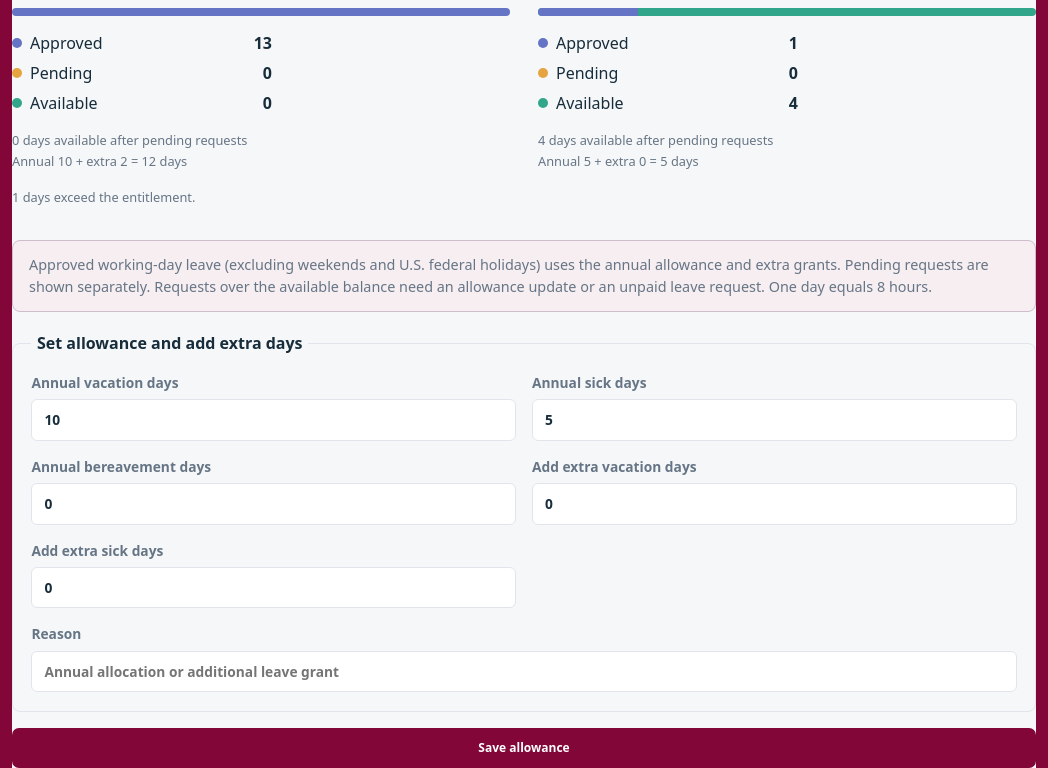
it: saves extra grants and resets the grant fields to prevent accidental resubmission
(page scrolled)
Replace the text in the number field labelled "Add extra vacation days" with "3" at (774, 504), box x1=532 y1=483 x2=1017 y2=524
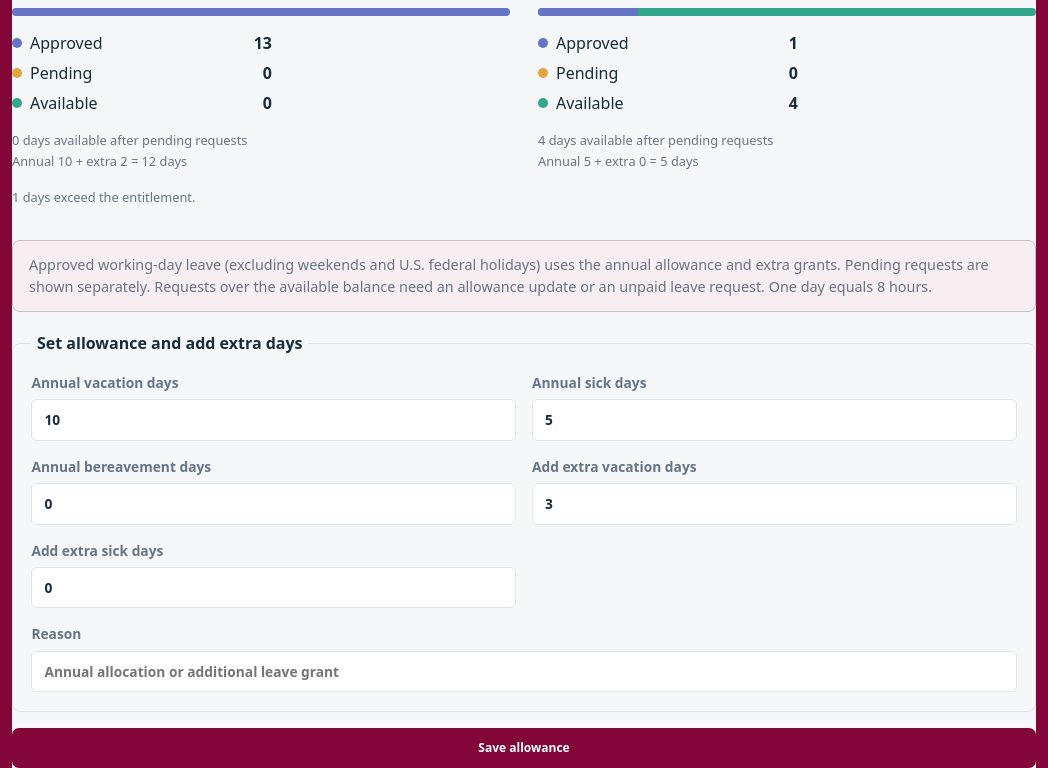
Type "Additional leave approved" into the field labelled "Reason" at (524, 672), box x1=31 y1=651 x2=1017 y2=692
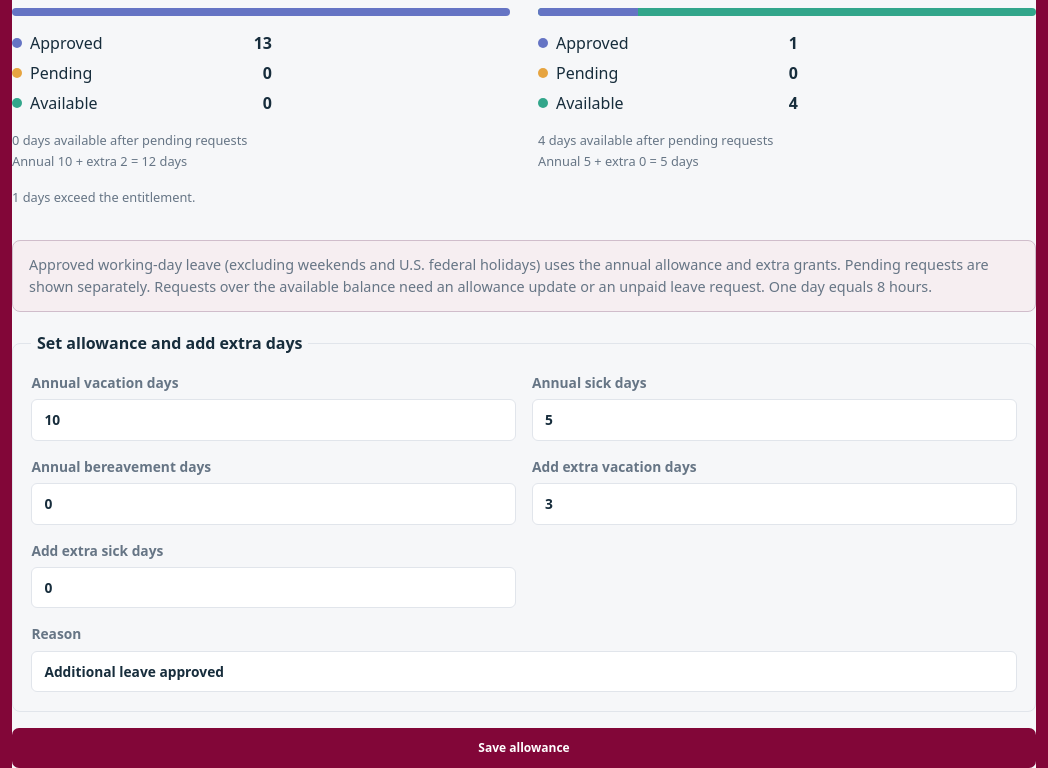
Click the button "Save allowance" at (524, 748), box x1=12 y1=728 x2=1036 y2=767
(page scrolled)
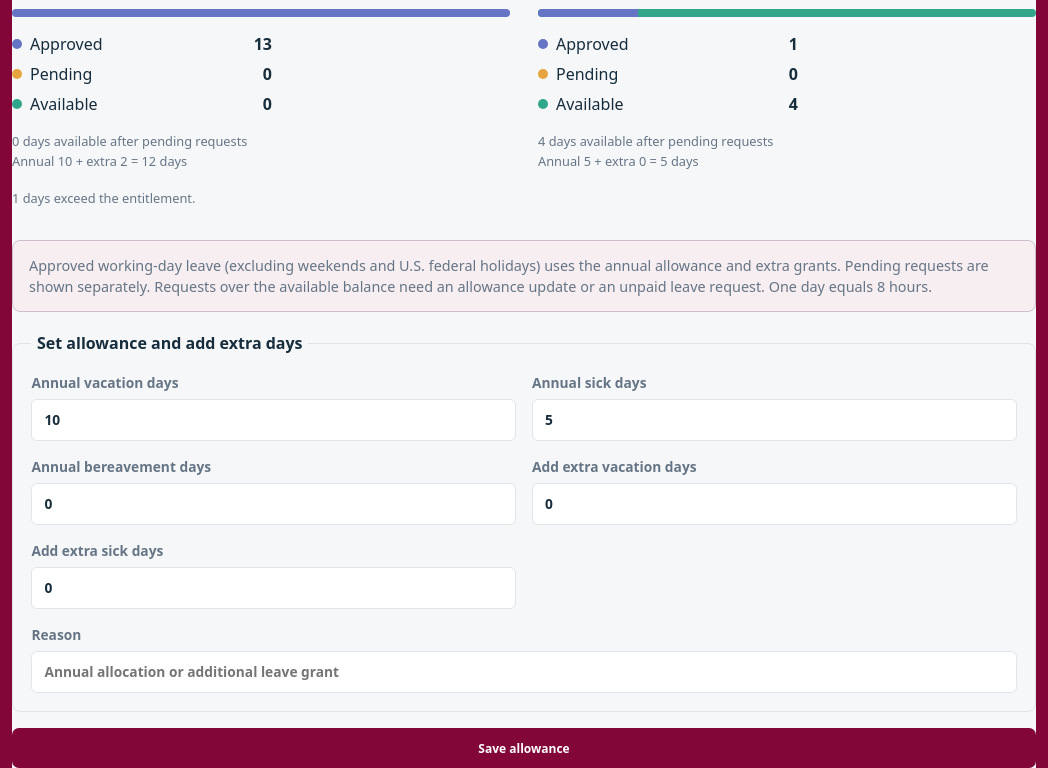
expect the number field labelled "Add extra vacation days" holds "0": met, box x1=532 y1=483 x2=1017 y2=525
